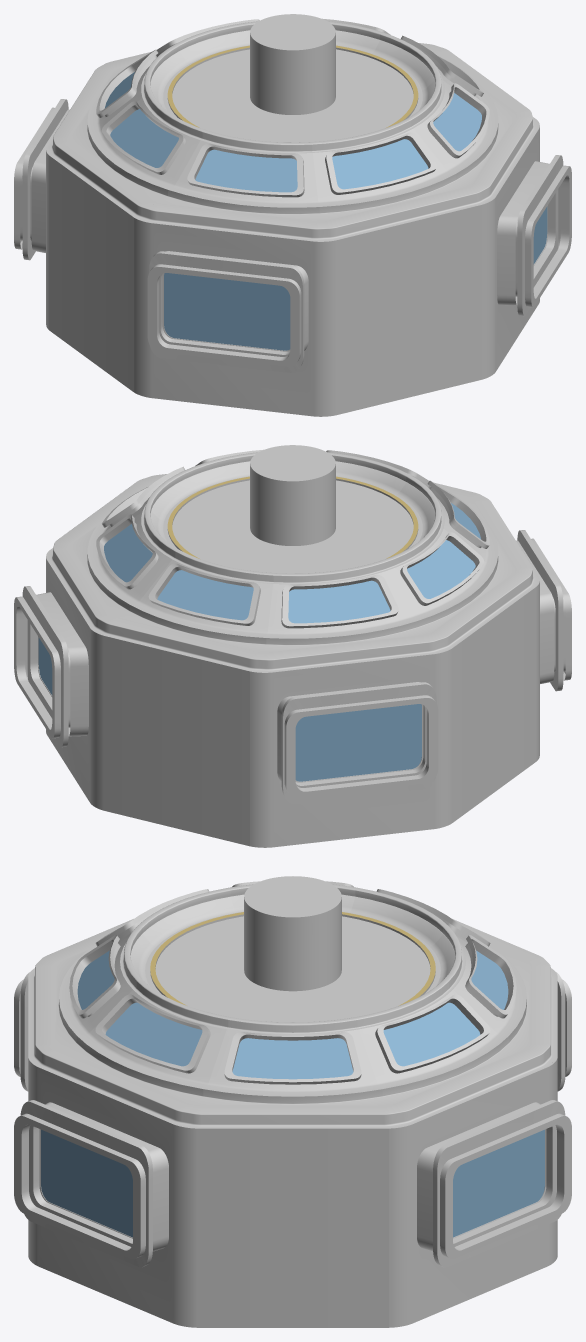
File: FBX_SS_Module1_6x6_Coll.fbx
The picture shows the model from 3 angles, top to bottom: view 1: azimuth 30°, elevation 25°; view 2: azimuth 150°, elevation 25°; view 3: azimuth 270°, elevation 25°; orthographic projection. The views are drawn at different scales.
Visible parts, largest first — view 1: Walls_Plain, Ceiling_Windowed.003, Walls_Plain.001, Ceiling_InnerFace; view 2: Walls_Plain, Ceiling_Windowed.003, Walls_Plain.001, Ceiling_InnerFace; view 3: Ceiling_Windowed.003, Walls_Plain, Walls_Plain.001, Ceiling_InnerFace.
Part boxes in pixels (left/top/right/bottom): Walls_Plain: left=46, top=127, right=539, bottom=416; Ceiling_Windowed.003: left=46, top=18, right=539, bottom=241; Walls_Plain.001: left=14, top=99, right=571, bottom=372; Ceiling_InnerFace: left=163, top=14, right=422, bottom=142; Walls_Plain: left=46, top=558, right=539, bottom=847; Ceiling_Windowed.003: left=46, top=449, right=539, bottom=672; Walls_Plain.001: left=14, top=530, right=571, bottom=803; Ceiling_InnerFace: left=163, top=445, right=422, bottom=573; Ceiling_Windowed.003: left=28, top=881, right=557, bottom=1128; Walls_Plain: left=28, top=1058, right=557, bottom=1327; Walls_Plain.001: left=14, top=972, right=571, bottom=1267; Ceiling_InnerFace: left=145, top=876, right=440, bottom=1022.
Size of the model in its own units: 685 by 533 by 685.
